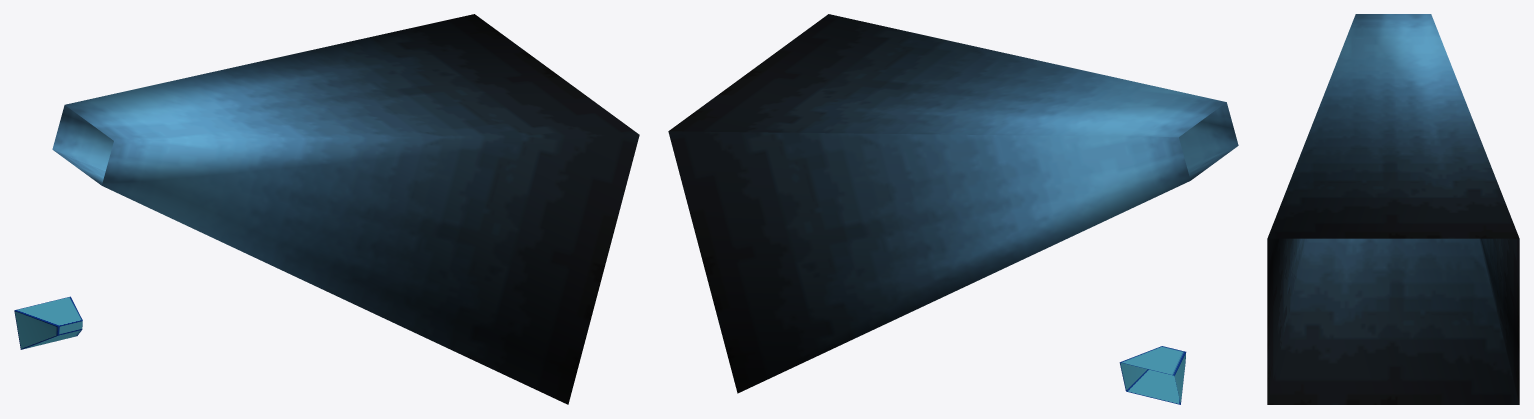
Rendered from factoryTemp_01.FBX.
3 views of the same model, side by side, from view 1: azimuth 30°, elevation 25°; view 2: azimuth 150°, elevation 25°; view 3: azimuth 270°, elevation 25° (orthographic). The views are drawn at different scales.
Visible parts, largest first — view 1: factoryTemp_01, factoryTemp_02; view 2: factoryTemp_01, factoryTemp_02; view 3: factoryTemp_01.
Part boxes in pixels (x1,y1,x2,y2): factoryTemp_01: (52,14,639,404); factoryTemp_02: (14,296,82,349); factoryTemp_01: (668,14,1238,393); factoryTemp_02: (1119,346,1186,404); factoryTemp_01: (1267,14,1519,404).
Size of the model in its own units: 1954 by 1211 by 1138.
